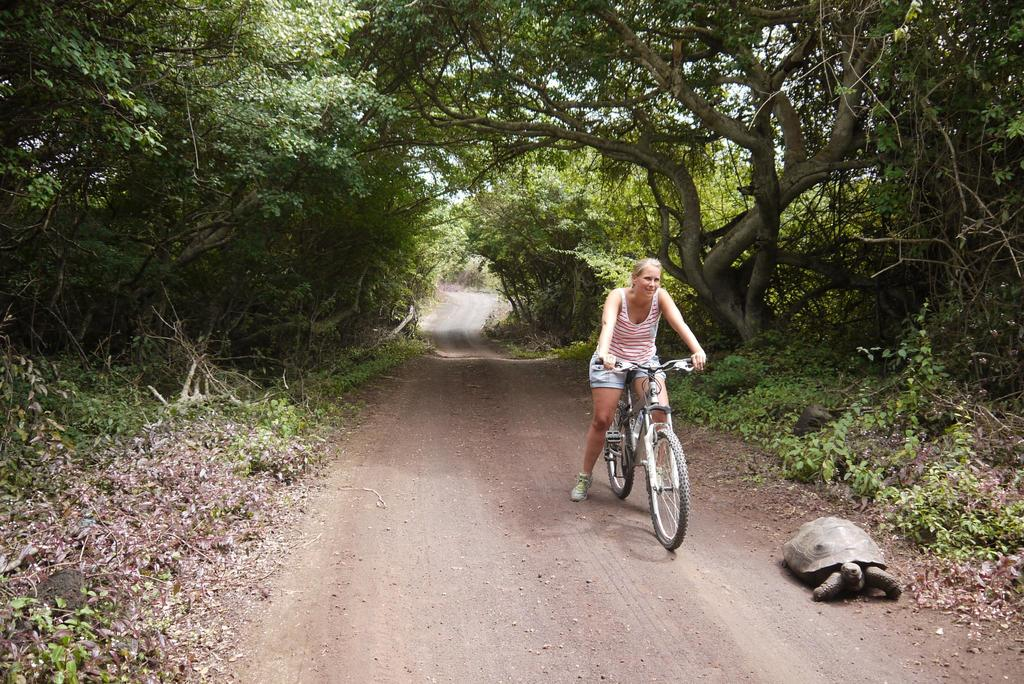Bike_toward: (571, 352, 713, 549)
